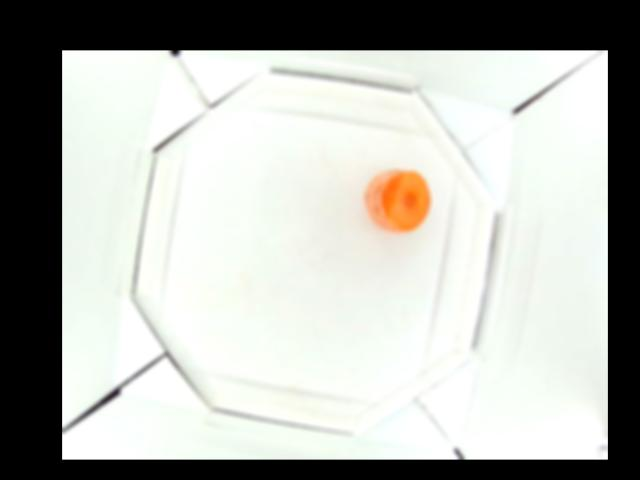Carrot: (364, 168, 430, 231)
